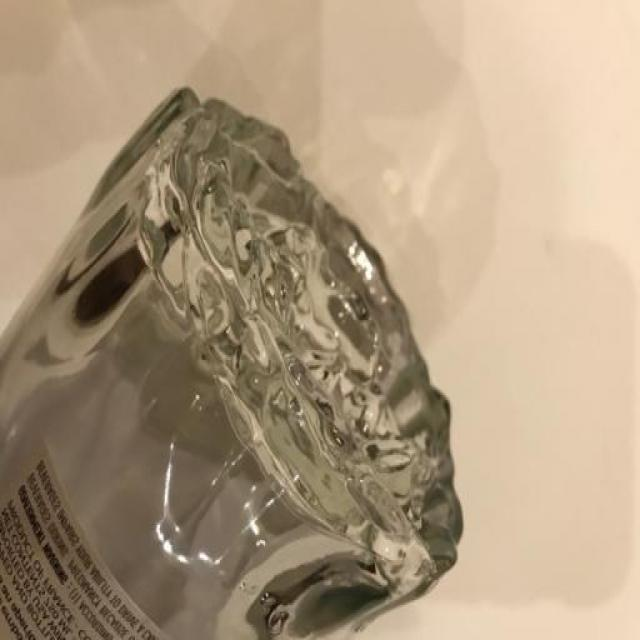glass: (0, 81, 466, 640)
